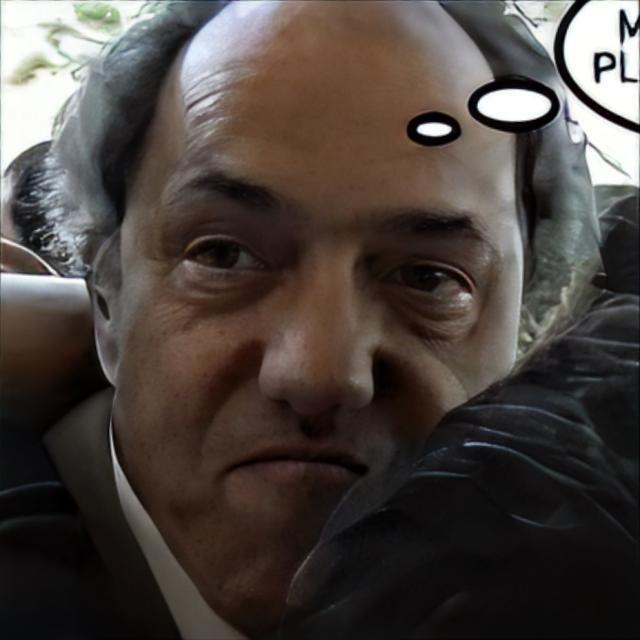disgust: (118, 0, 525, 630)
